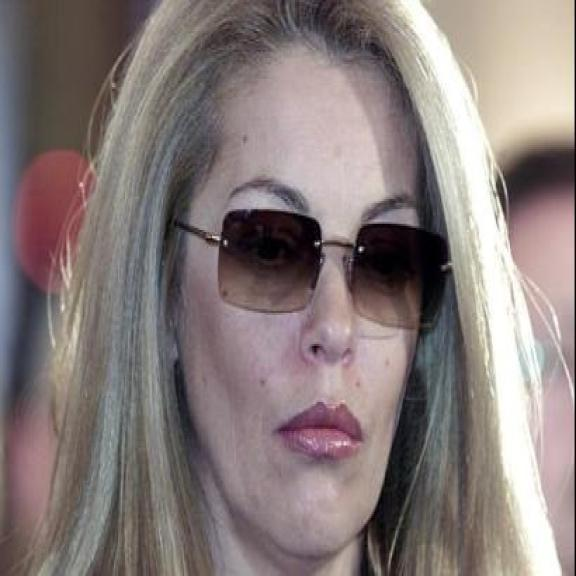face: (163, 37, 433, 567)
